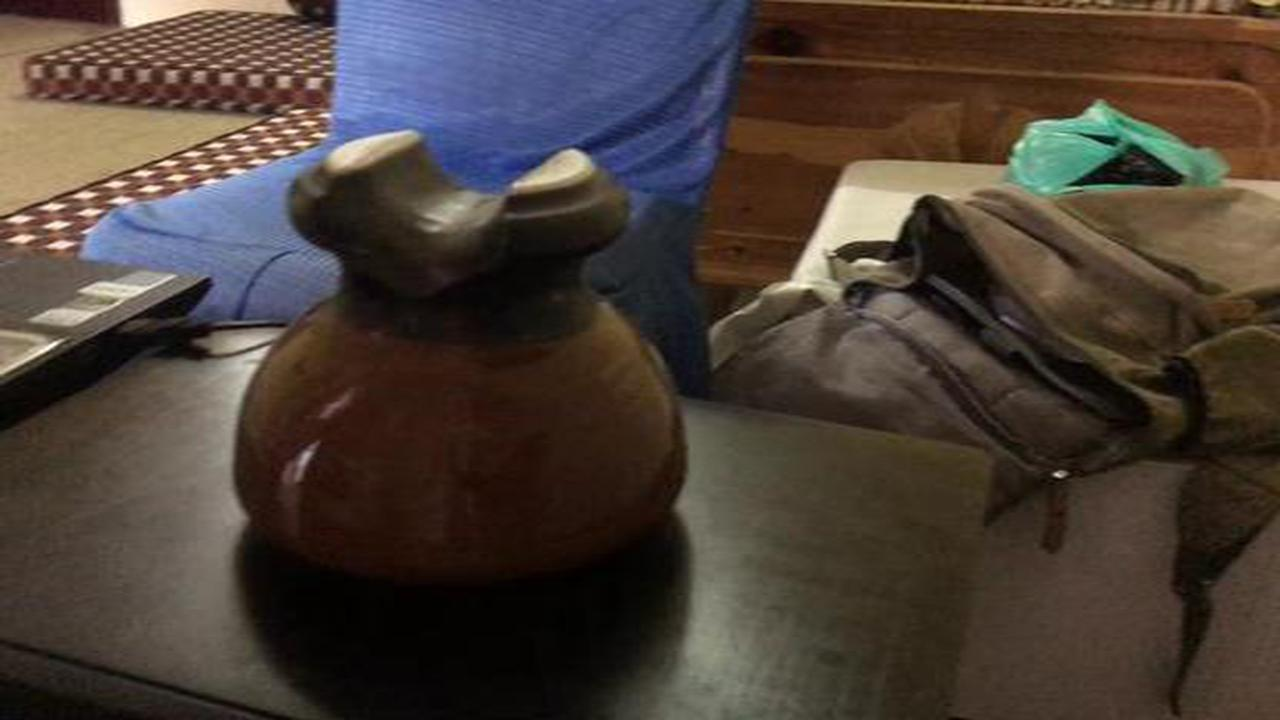insulator_pin: (201, 113, 724, 617)
